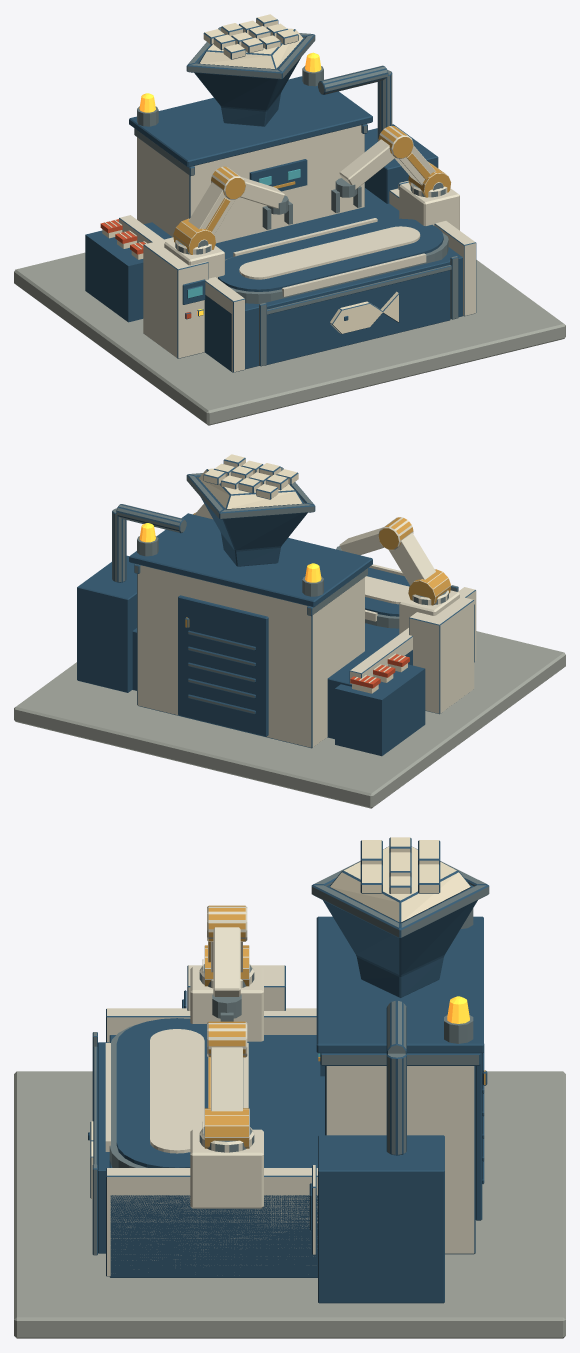
File: auto-sushi-lv2.glb
3 renders of one model, top to bottom at view 1: azimuth 30°, elevation 25°; view 2: azimuth 150°, elevation 25°; view 3: azimuth 270°, elevation 25°, orthographic. The views are drawn at different scales.
Parts seen in each view (by area): view 1: Auto_L2, Robot_L_Upper.002, Robot_R_Forearm.001, Robot_L_Forearm.002, Robot_R_Upper.001, Robot_R_Gripper.001, Robot_L_Gripper.002; view 2: Auto_L2, Robot_L_Upper.002, Robot_L_Forearm.002; view 3: Auto_L2, Robot_R_Upper.001, Robot_L_Forearm.002, Robot_R_Forearm.001, Robot_L_Upper.002, Robot_L_Gripper.002.
Part boxes in pixels (<box>): Auto_L2: <box>14,14,565,425</box>; Robot_L_Upper.002: <box>173,182,235,254</box>; Robot_R_Forearm.001: <box>339,126,413,189</box>; Robot_L_Forearm.002: <box>211,166,284,208</box>; Robot_R_Upper.001: <box>395,145,451,197</box>; Robot_R_Gripper.001: <box>331,178,361,213</box>; Robot_L_Gripper.002: <box>262,195,292,229</box>; Auto_L2: <box>14,454,565,808</box>; Robot_L_Upper.002: <box>389,532,451,605</box>; Robot_L_Forearm.002: <box>339,517,413,555</box>; Auto_L2: <box>14,837,565,1338</box>; Robot_R_Upper.001: <box>202,1047,249,1148</box>; Robot_L_Forearm.002: <box>207,905,247,996</box>; Robot_R_Forearm.001: <box>207,1021,247,1057</box>; Robot_L_Upper.002: <box>202,941,249,986</box>; Robot_L_Gripper.002: <box>212,994,241,1021</box>.
Size of the model in its own units: 4.95 by 3.31 by 4.65.
